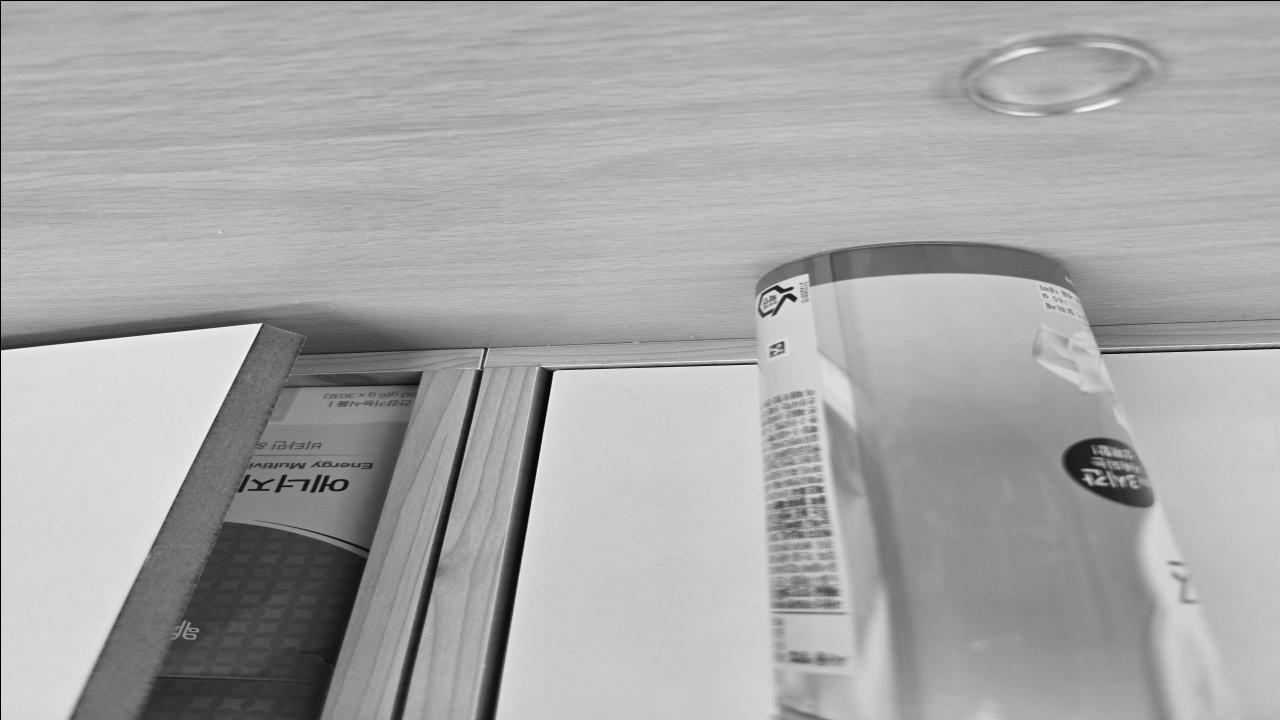ring: (954, 32, 1164, 116)
